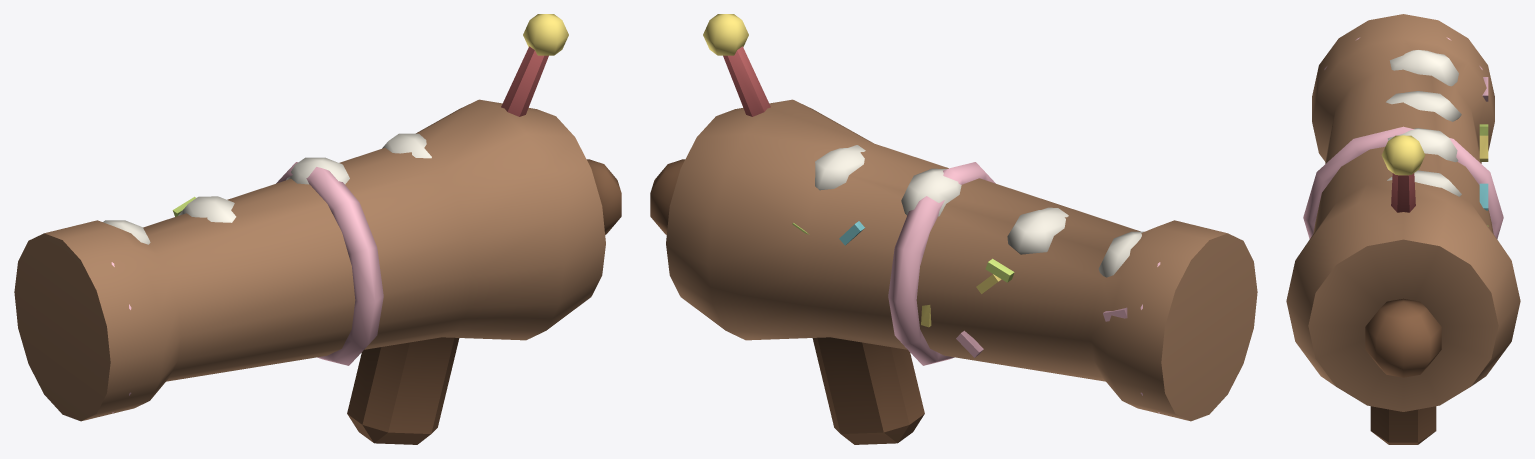
The model's file is ChocoCannon.fbx.
3 views of the same model, side by side, from view 1: azimuth 30°, elevation 25°; view 2: azimuth 150°, elevation 25°; view 3: azimuth 270°, elevation 25° (orthographic). The views are drawn at different scales.
Visible parts, largest first — view 1: ChocoCannon; view 2: ChocoCannon; view 3: ChocoCannon.
Boxes of the visible parts, x1=… form: ChocoCannon: x1=14, y1=14, x2=621, y2=444; ChocoCannon: x1=650, y1=14, x2=1257, y2=444; ChocoCannon: x1=1286, y1=14, x2=1520, y2=444.
Size of the model in its own units: 0.8323 by 0.5619 by 0.32.
